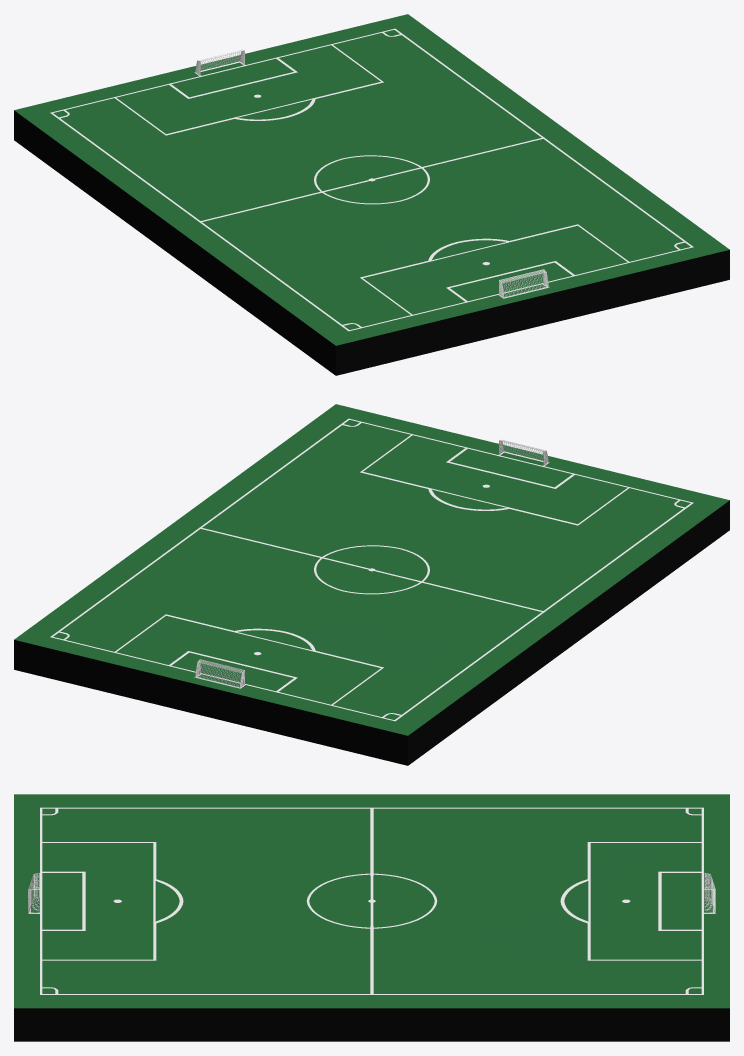
File: soccer-field.fbx
The picture shows the model from 3 angles, top to bottom: view 1: azimuth 30°, elevation 25°; view 2: azimuth 150°, elevation 25°; view 3: azimuth 270°, elevation 25°; orthographic projection. The views are drawn at different scales.
Visible parts, largest first — view 1: Cube, goal; view 2: Cube, goal; view 3: Cube, goal.
Boxes of the visible parts, x1,y1,x2,y2 form: Cube: (14, 14, 729, 375); goal: (195, 49, 548, 298); Cube: (14, 404, 729, 765); goal: (195, 439, 548, 688); Cube: (14, 794, 729, 1041); goal: (28, 873, 715, 913).
Bounding box in the file's own units: 22364 × 2431 × 31651.
